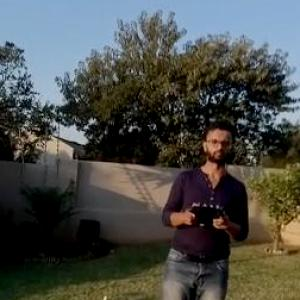follow: (150, 115, 254, 299)
